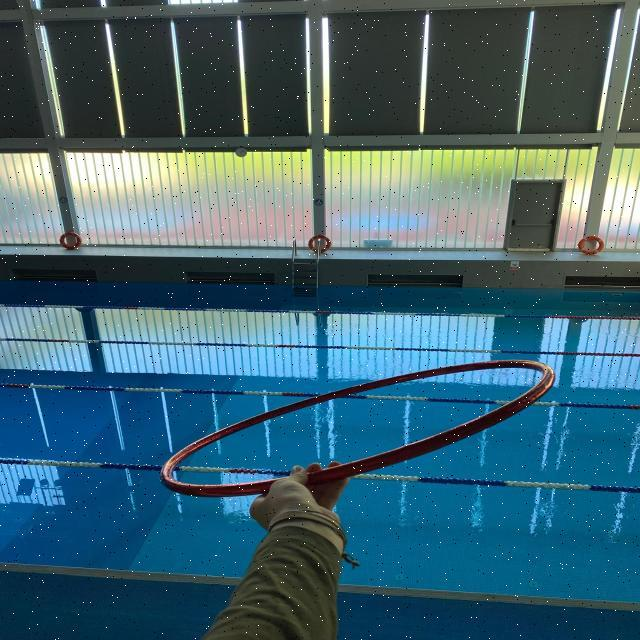Circle: (155, 358, 556, 499)
